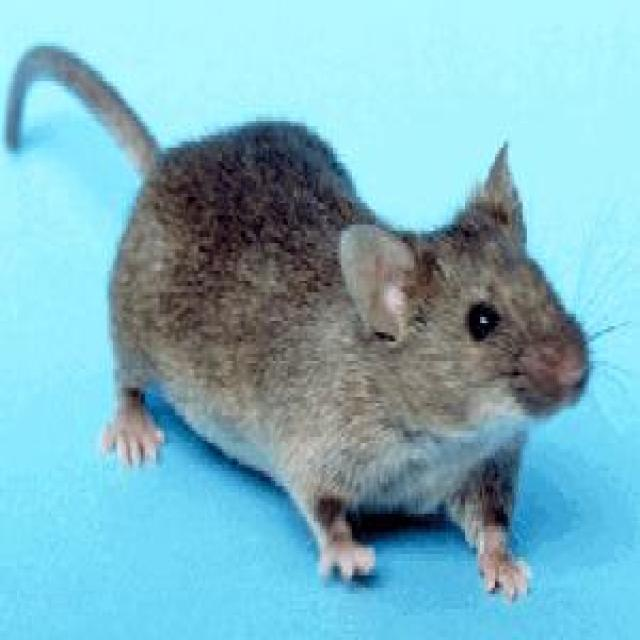rat: (54, 39, 601, 607)
